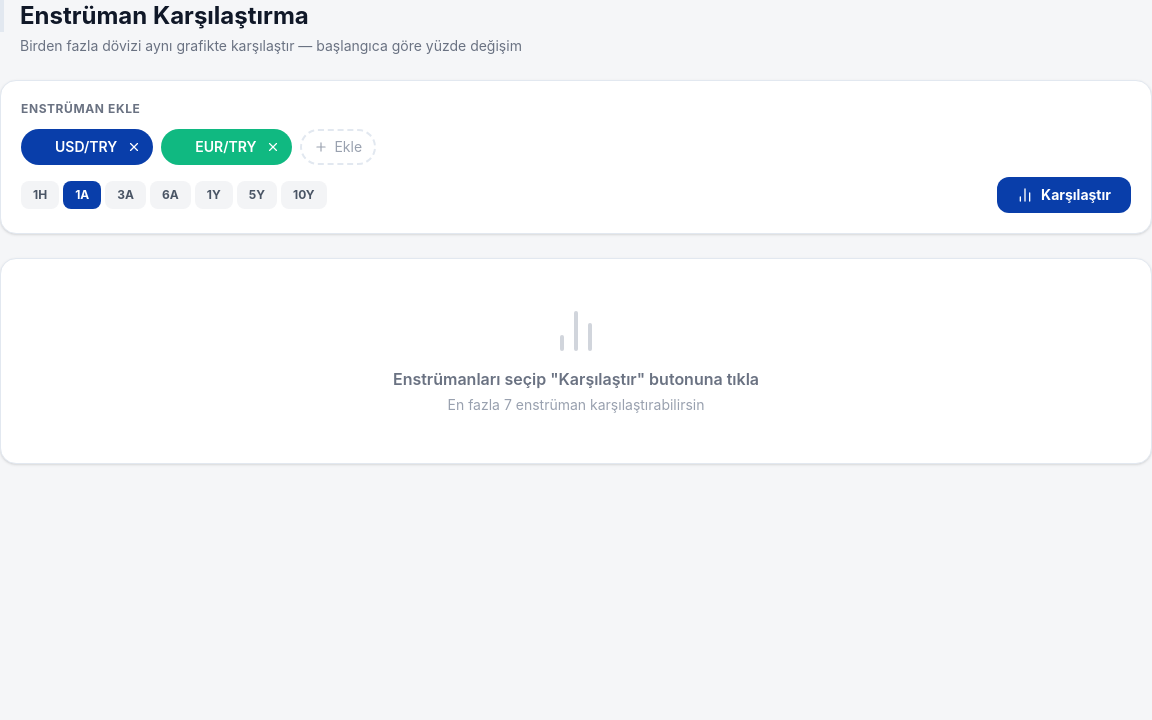
Test case: ComparePage (FX enstrüman karşılaştırma) — jsdom + testing-library › metrik tablosunda "En iyi" performans rozeti gösterilir
Click the button "Karşılaştır" at x=1064, y=195, box [997, 177, 1131, 213]
(page scrolled)
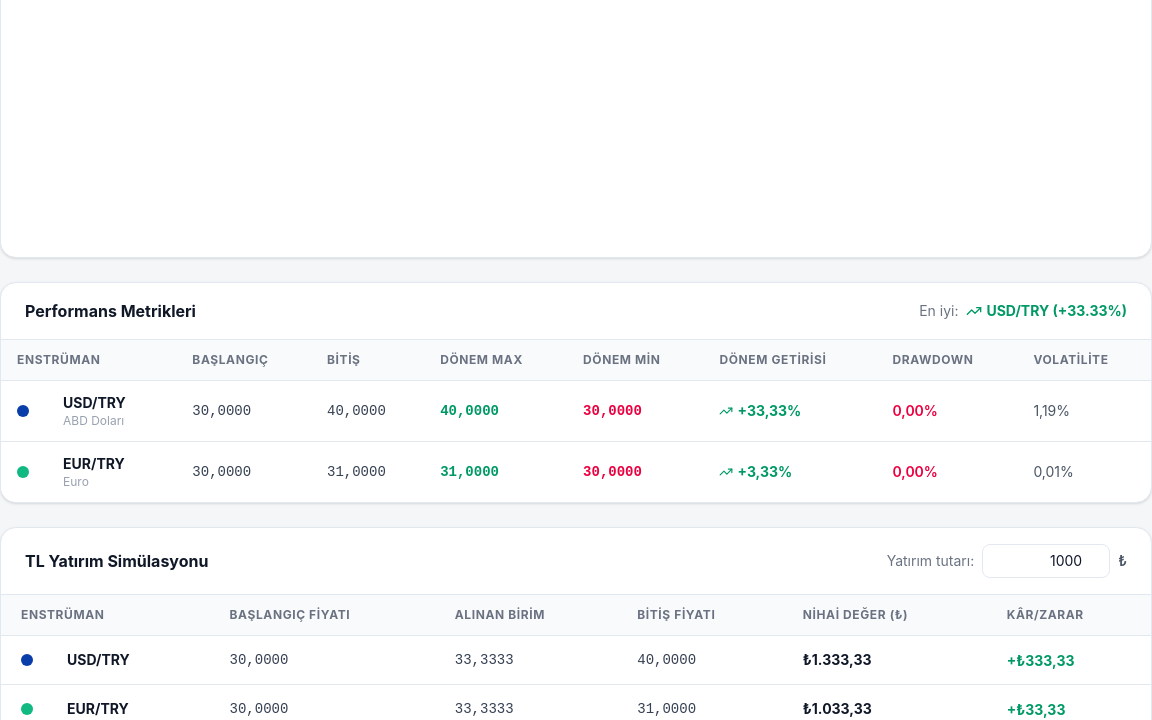
Expected: the text "En iyi:" is shown, [919, 301, 958, 321]
Expected: the column heading "Dönem Getirisi" is shown, [703, 340, 876, 380]
Expected: the column heading "Volatilite" is shown, [1017, 340, 1151, 380]
